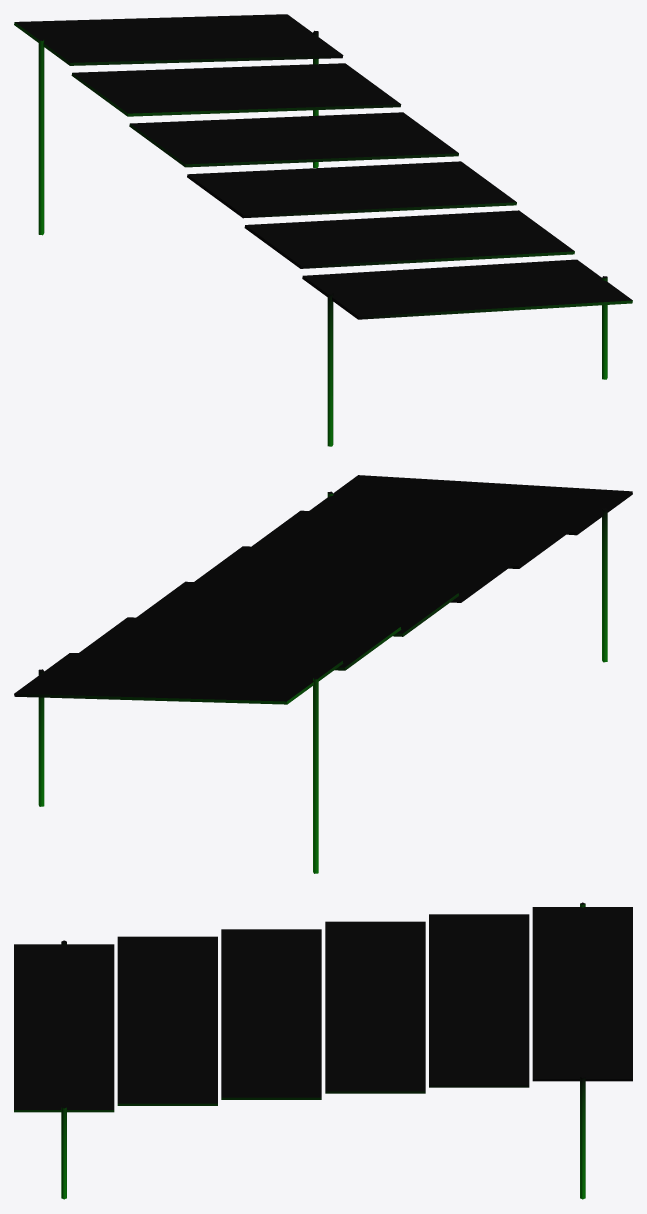
The model's file is camonetting.glb.
3 renders of one model, top to bottom at view 1: azimuth 30°, elevation 25°; view 2: azimuth 150°, elevation 25°; view 3: azimuth 270°, elevation 25°, orthographic. The views are drawn at different scales.
Visible parts, largest first — view 1: lod0; view 2: lod0; view 3: lod0.
Part boxes in pixels (box(x1,y1,x2,y2)): lod0: box(14, 14, 632, 446); lod0: box(14, 475, 632, 873); lod0: box(14, 902, 632, 1199).
Size of what is drawn, in the model's own units: 6.94 by 4.6 by 14.8.
